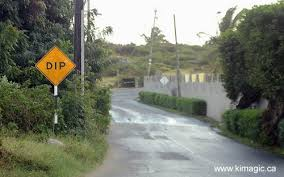dip: (36, 45, 81, 87)
